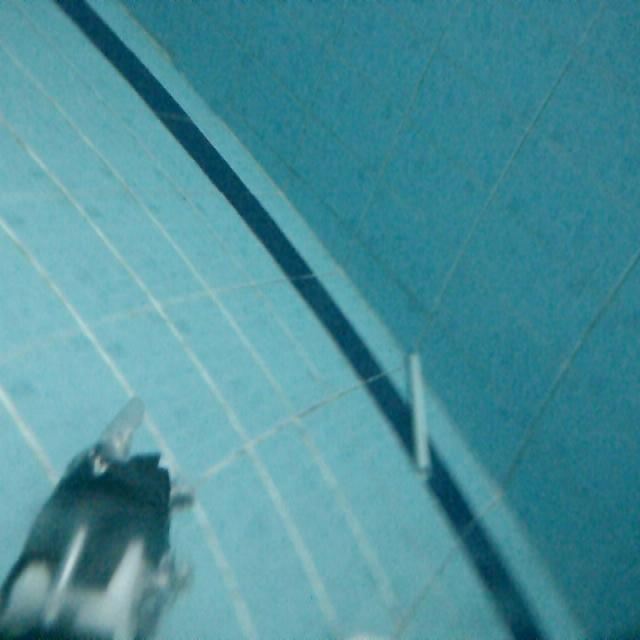Cube: (404, 345, 440, 488)
